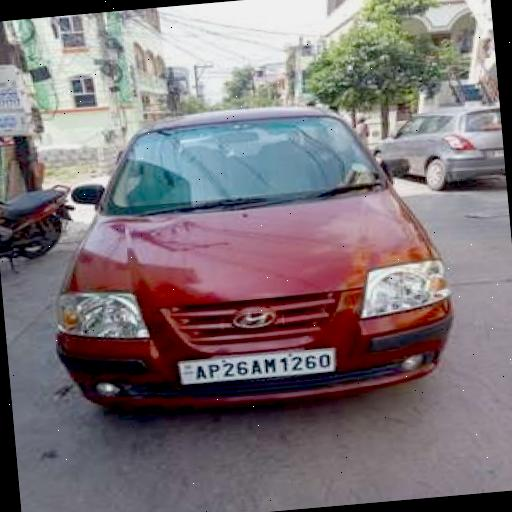license_plate`: (176, 344, 334, 382)
